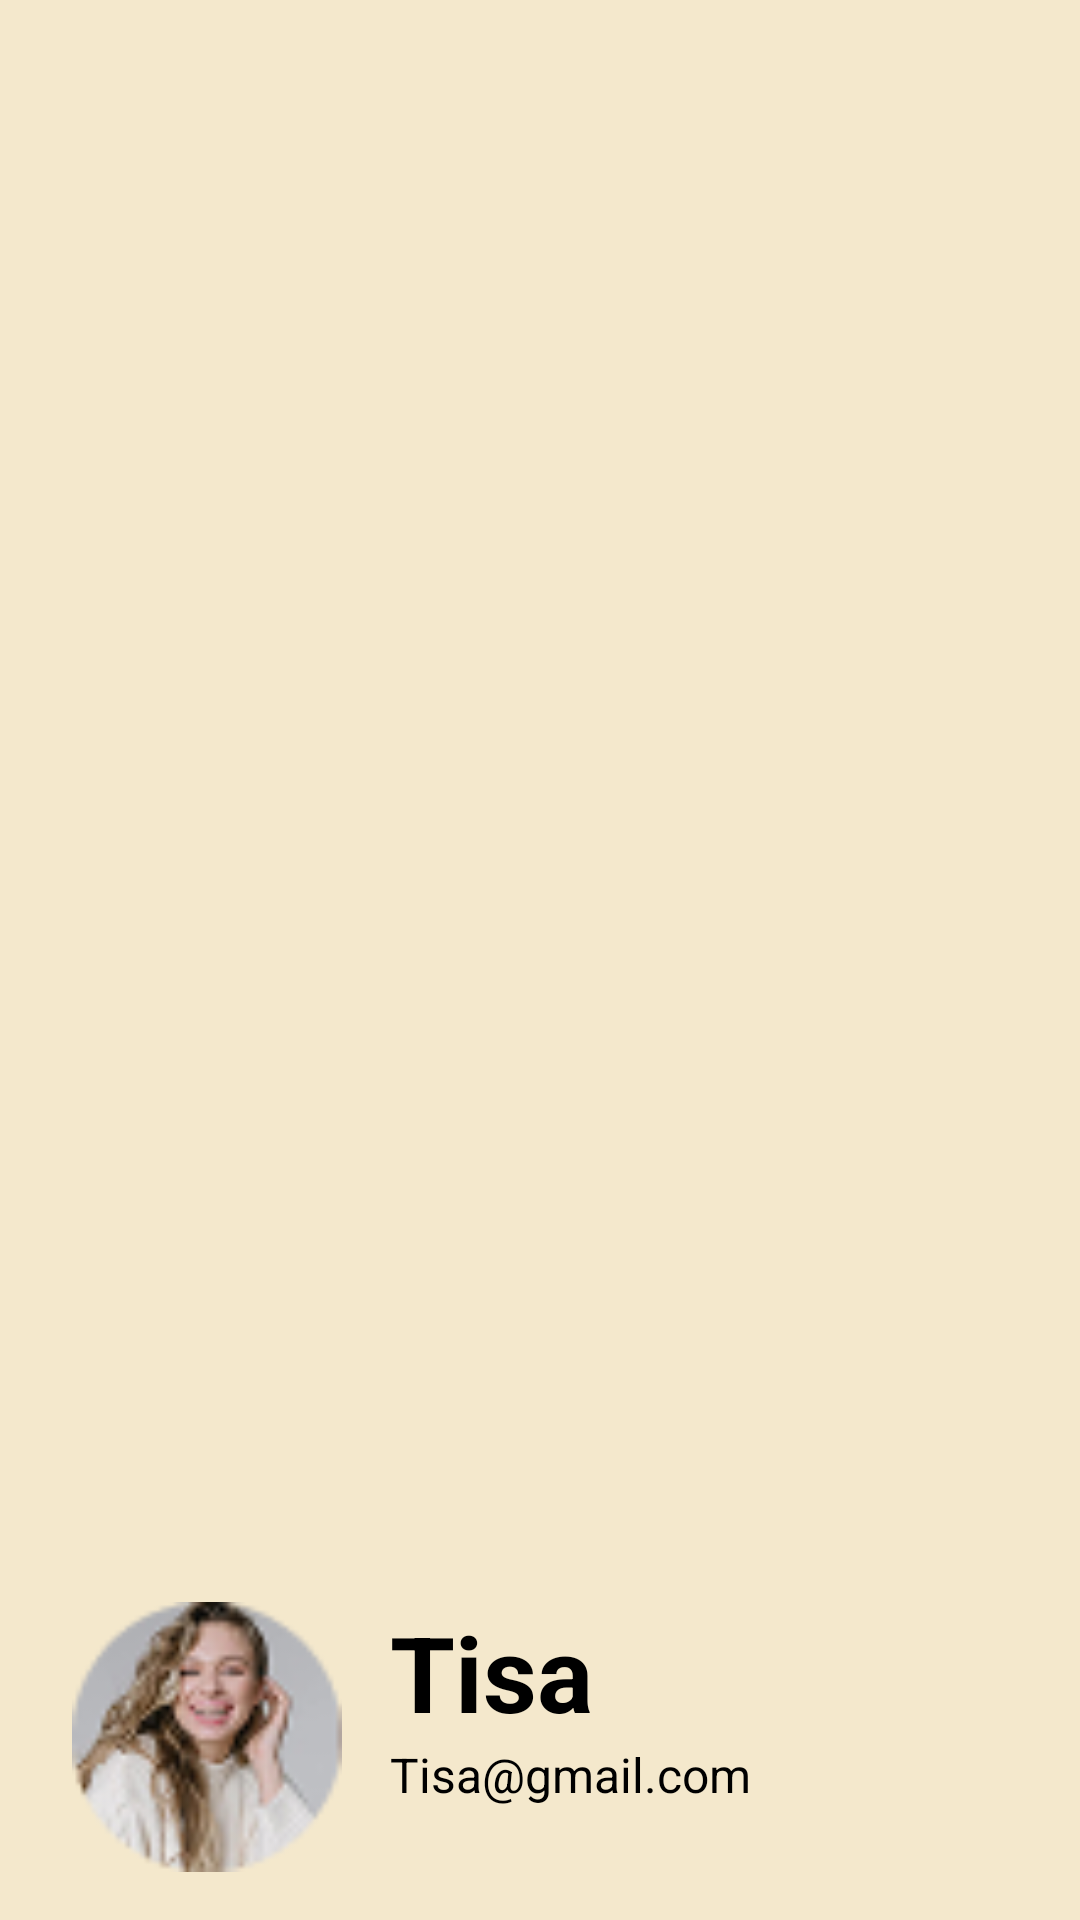

Icon bounding boxes for this 1080px x 1920px phone screenshot, format (x1, y1, x2, y2):
profile: (72, 1602, 342, 1872)
